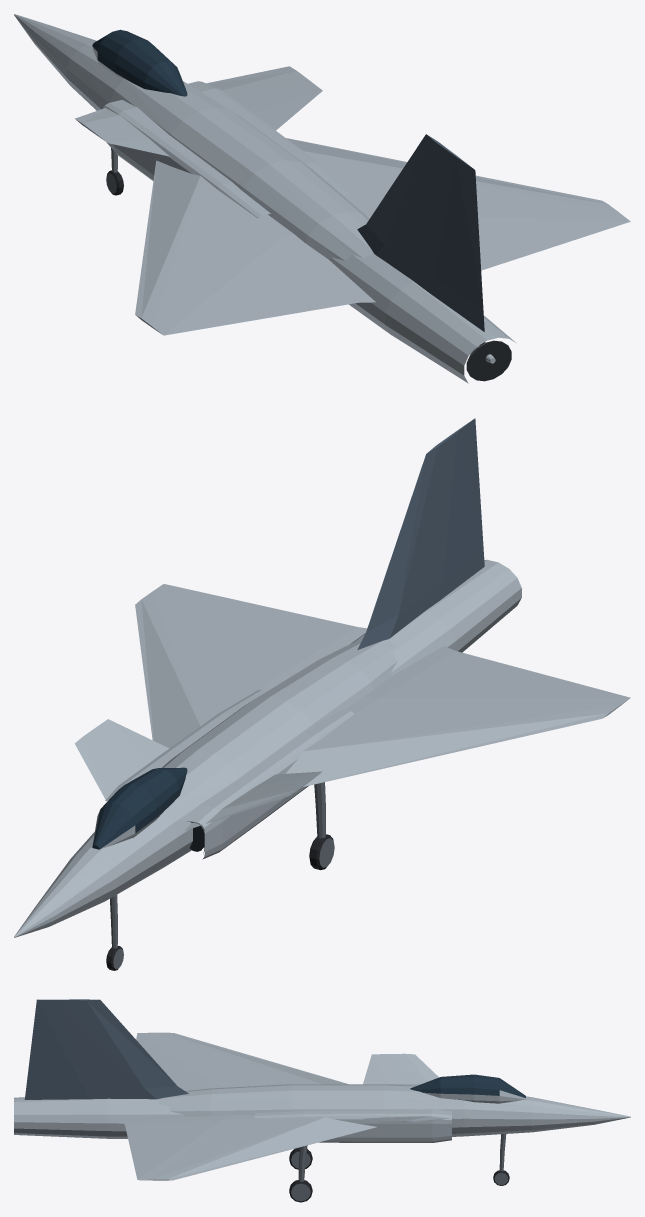
File: gripen.glb
3 views of the same model, one above another, from view 1: azimuth 30°, elevation 25°; view 2: azimuth 150°, elevation 25°; view 3: azimuth 270°, elevation 25° (orthographic). The views are drawn at different scales.
Parts seen in each view (by area): view 1: airframe; view 2: airframe, gear; view 3: airframe, gear.
Boxes of the visible parts, x1=… form: airframe: x1=14, y1=14, x2=630, y2=383; airframe: x1=14, y1=418, x2=630, y2=937; gear: x1=106, y1=782, x2=334, y2=970; airframe: x1=14, y1=999, x2=630, y2=1180; gear: x1=289, y1=1134, x2=509, y2=1202.
Bounding box in the file's own units: 8.4 × 4.94 × 14.9.
